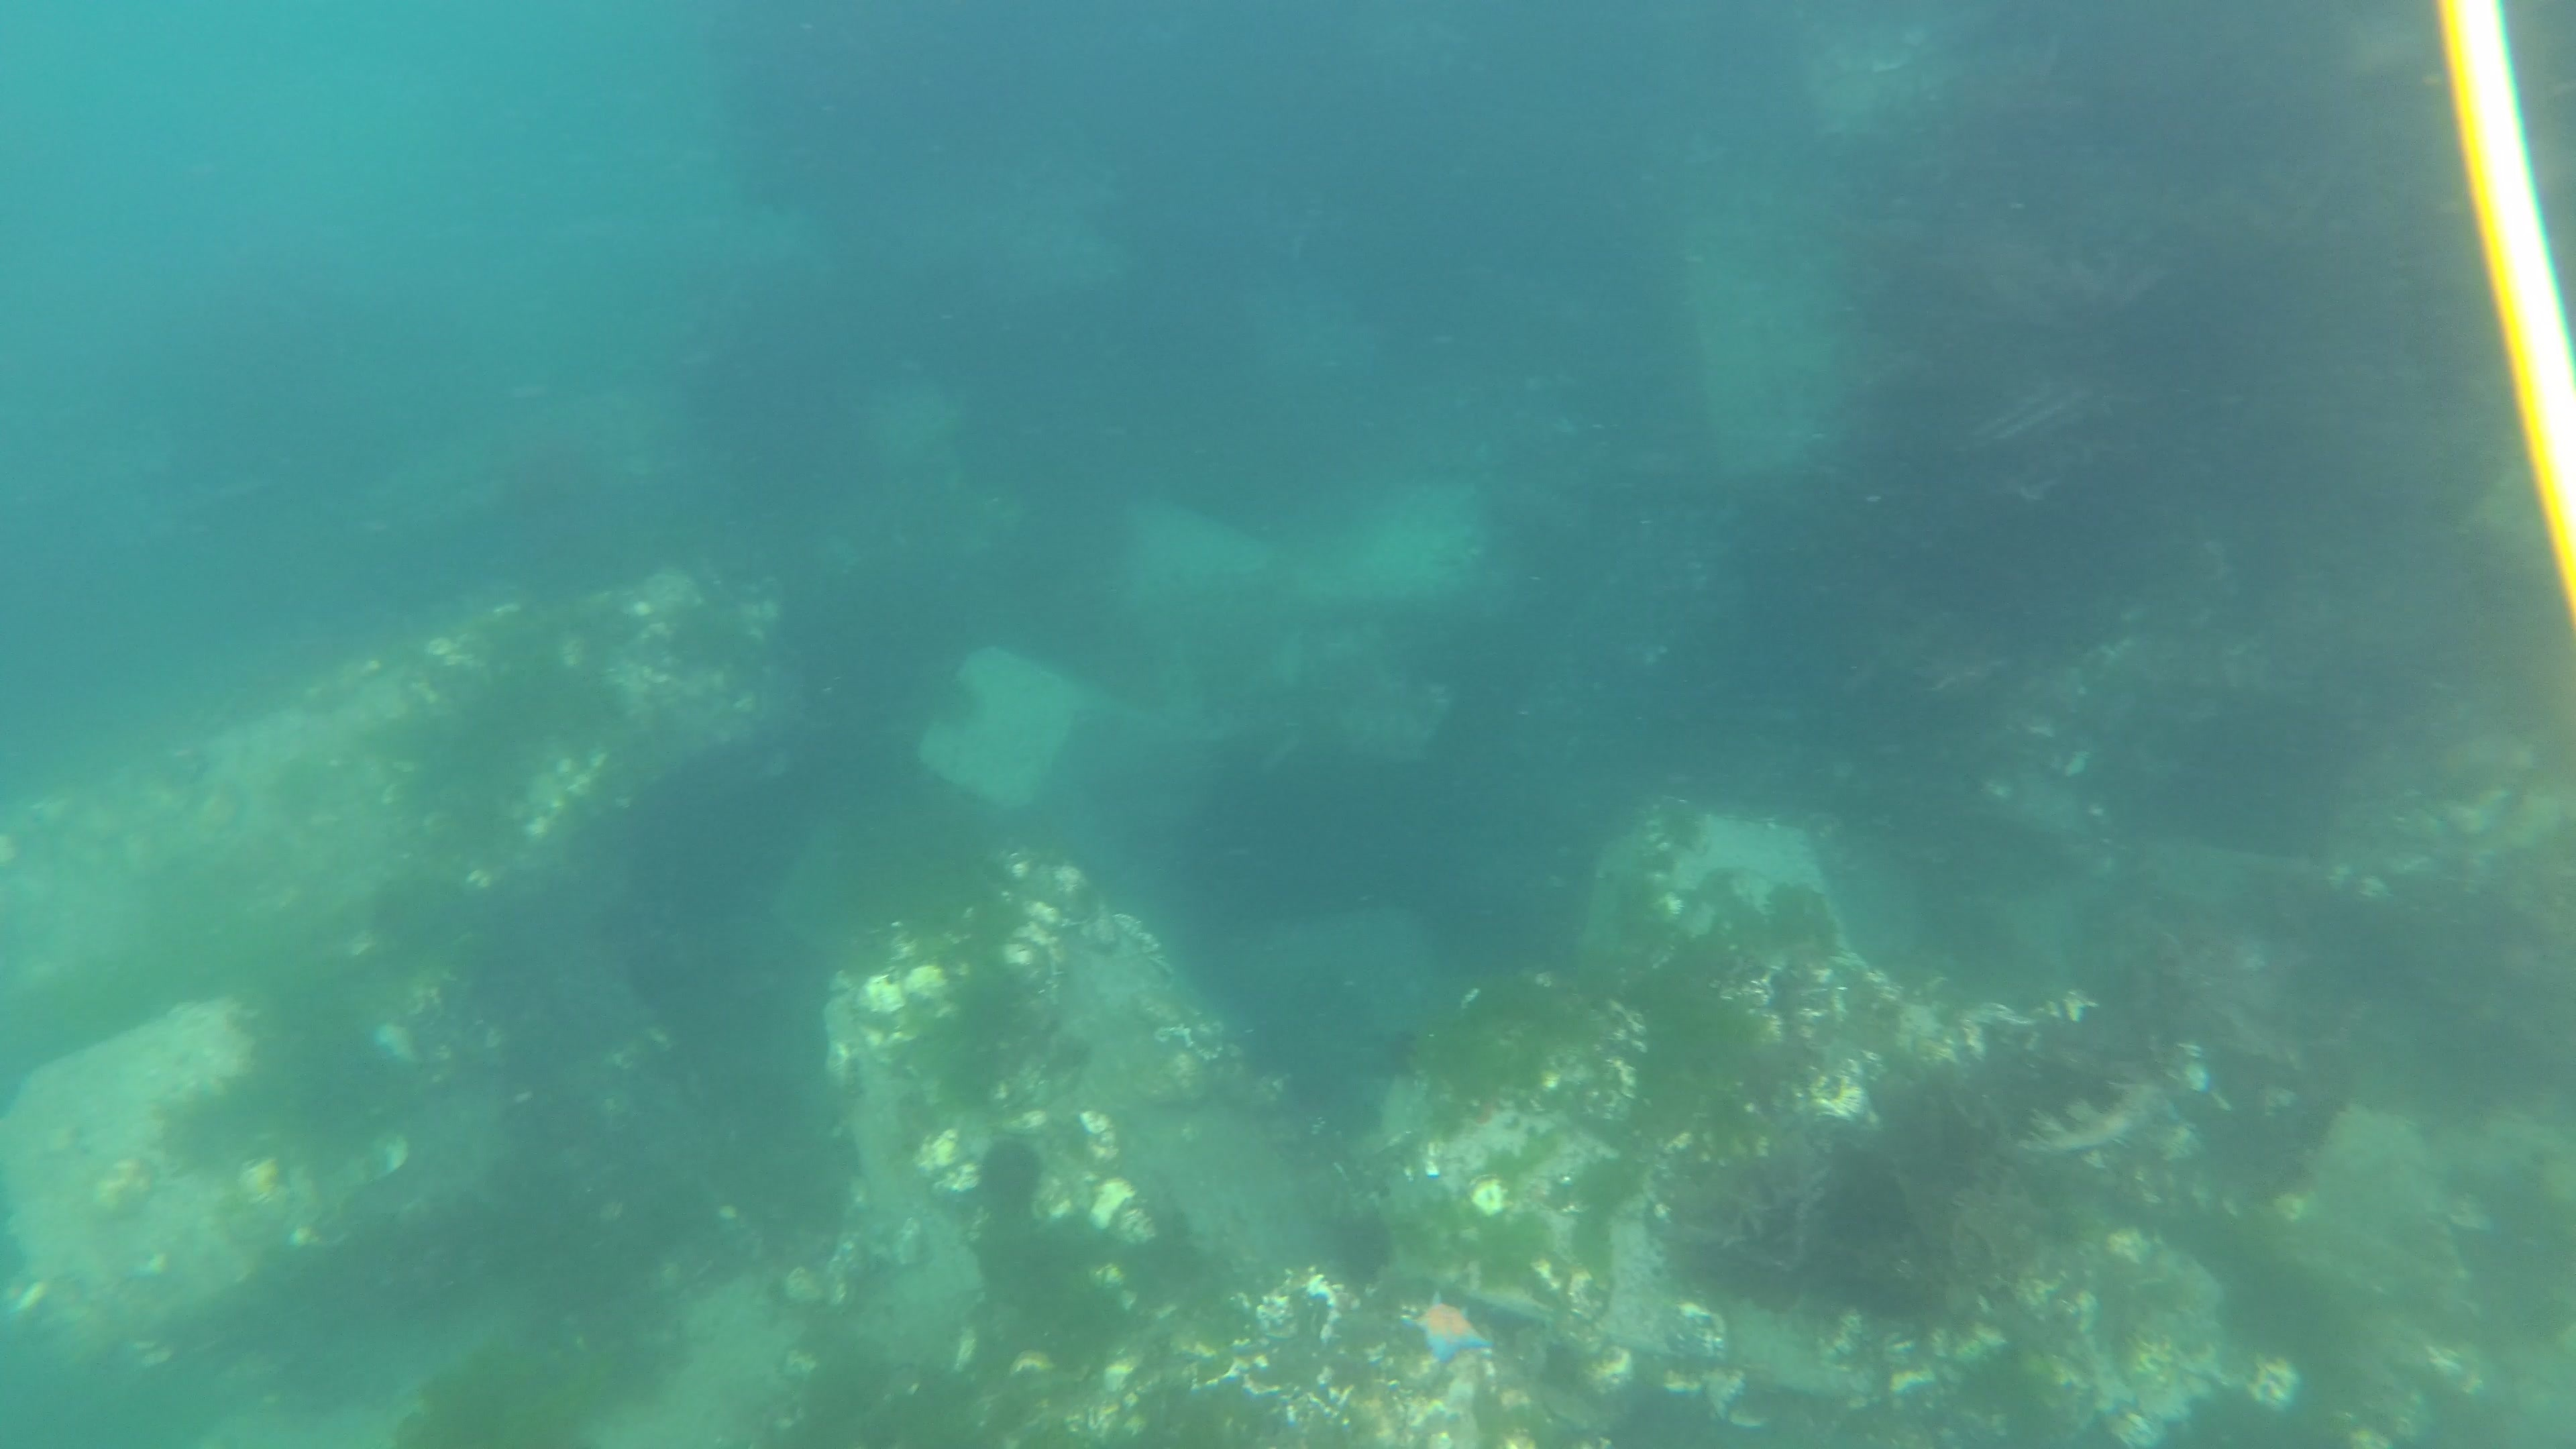echinus: (971, 1131, 1051, 1207)
starfish: (1396, 1286, 1502, 1371)
